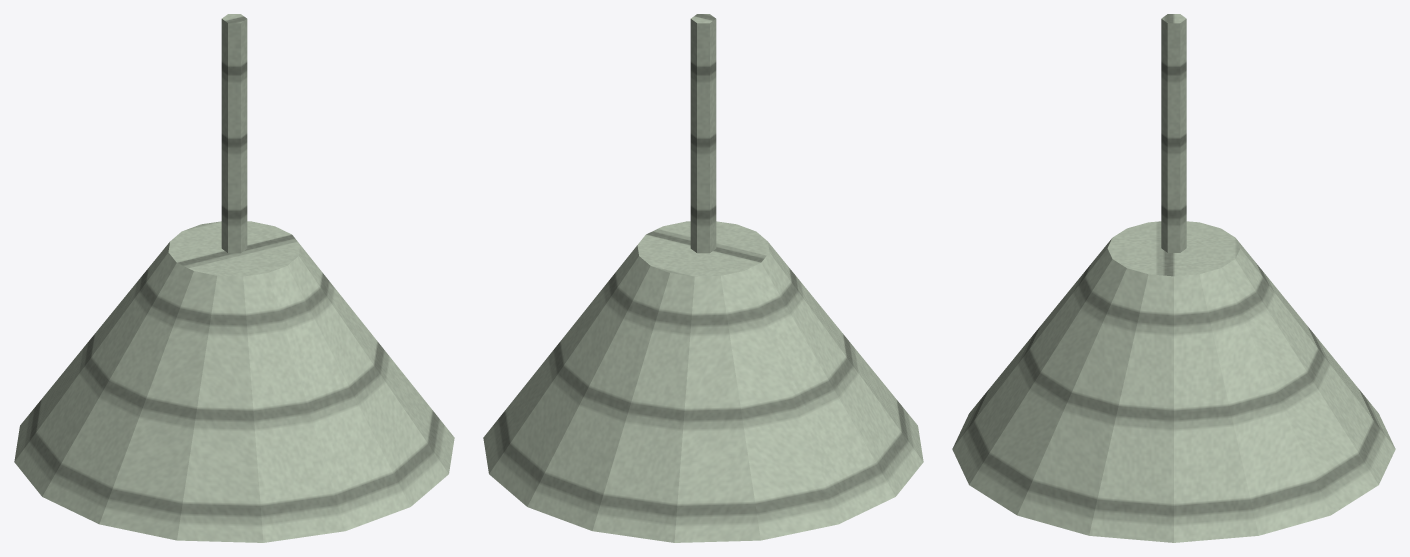
File: pendant_chandelier_dining.glb
3 views of the same model, side by side, from view 1: azimuth 30°, elevation 25°; view 2: azimuth 150°, elevation 25°; view 3: azimuth 270°, elevation 25° (orthographic).
Parts seen in each view (by area): view 1: pendant_chandelier_dining-col; view 2: pendant_chandelier_dining-col; view 3: pendant_chandelier_dining-col.
Boxes of the visible parts, left/top/right/bottom form: pendant_chandelier_dining-col: left=14, top=14, right=454, bottom=542; pendant_chandelier_dining-col: left=483, top=14, right=923, bottom=542; pendant_chandelier_dining-col: left=952, top=14, right=1395, bottom=542.
Bounding box in the file's own units: 0.7 × 0.75 × 0.7.
Materials: 1 (1 with a texture image).
